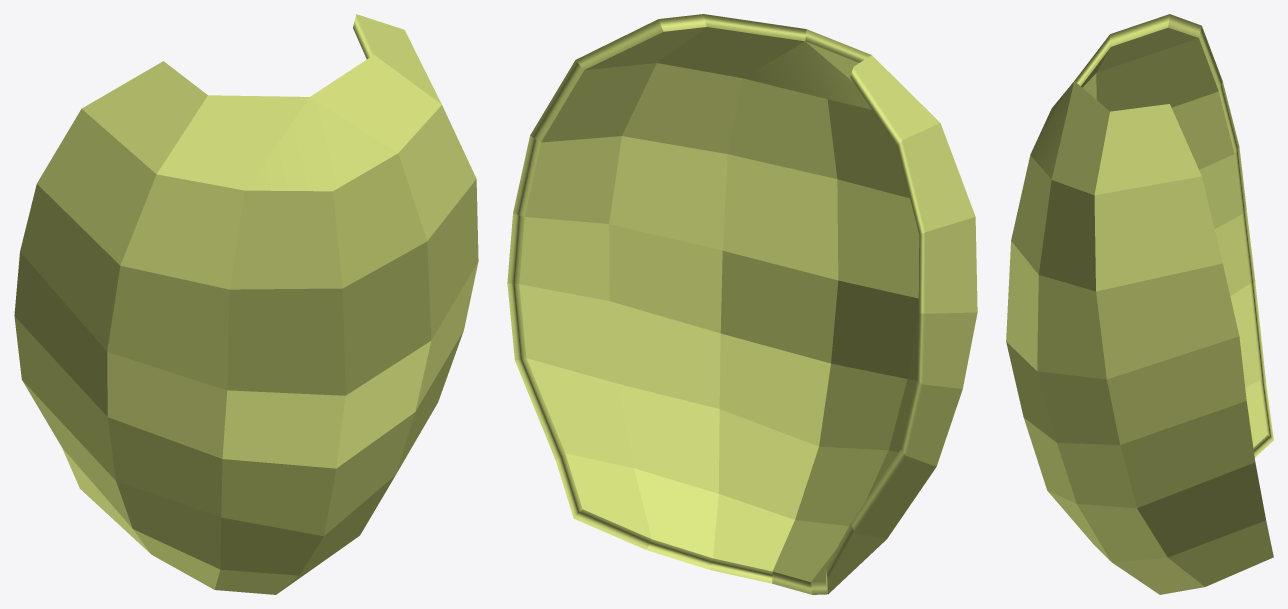
Rendered from Male_Mask_Shop.fbx.
3 views of the same model, side by side, from view 1: azimuth 30°, elevation 25°; view 2: azimuth 150°, elevation 25°; view 3: azimuth 270°, elevation 25° (orthographic). The views are drawn at different scales.
Parts seen in each view (by area): view 1: MaleVillager_Mask_Basic; view 2: MaleVillager_Mask_Basic; view 3: MaleVillager_Mask_Basic.
Boxes of the visible parts, x1,y1,x2,y2 form: MaleVillager_Mask_Basic: (14, 14, 478, 594); MaleVillager_Mask_Basic: (507, 14, 977, 594); MaleVillager_Mask_Basic: (1006, 14, 1273, 594).
Bounding box in the file's own units: 3.44 × 4.37 × 2.03.
